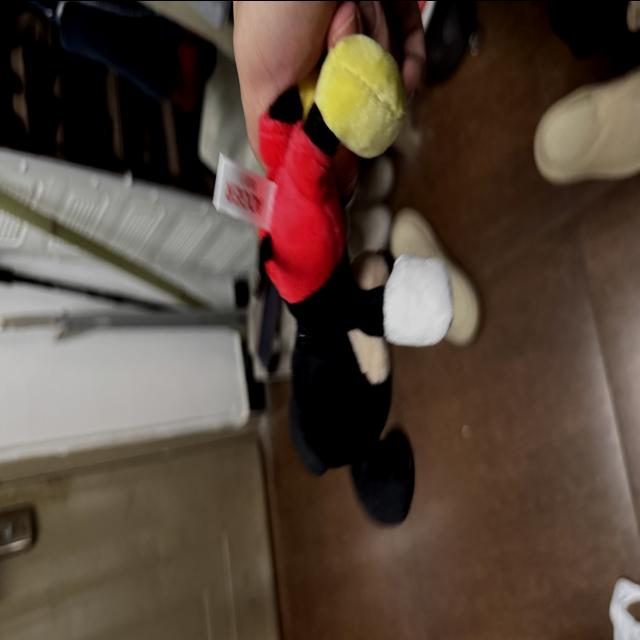mickey: (260, 35, 452, 523)
